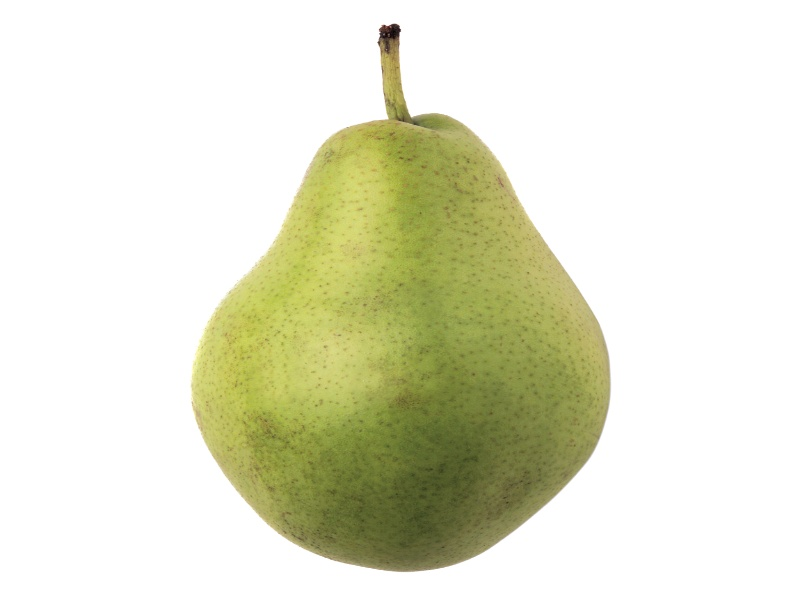Pera: (191, 24, 612, 571)
